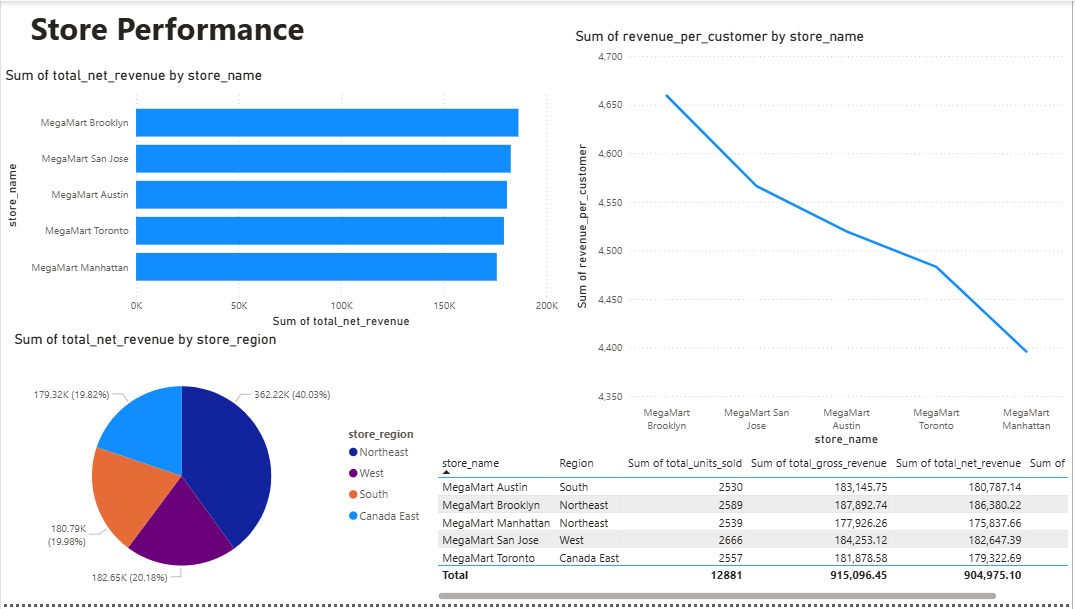

This screenshot's page, from the dashboard's own definition file:
{"tool":"powerbi","page":{"name":"Store Performance","canvas":[1280,720],"ordinal":1},"visuals":[{"type":"lineChart","fields":{"Category":["`dbt_tuto_prod` `gold` `gold_sales_by_store`.store_name"],"Y":["Sum(`dbt_tuto_prod` `gold` `gold_sales_by_store`.revenue_per_customer)"]},"box":[680.9,32.3,598.5,503.5],"z":0},{"type":"pieChart","fields":{"Category":["`dbt_tuto_prod` `gold` `gold_sales_by_store`.store_region"],"Y":["Sum(`dbt_tuto_prod` `gold` `gold_sales_by_store`.total_net_revenue)"]},"box":[10.8,394.2,505.3,326.1],"z":1000},{"type":"textbox","box":[10.8,1.8,376.3,59.1],"z":2000},{"type":"clusteredBarChart","fields":{"Category":["`dbt_tuto_prod` `gold` `gold_sales_by_store`.store_name"],"Y":["Sum(`dbt_tuto_prod` `gold` `gold_sales_by_store`.total_net_revenue)"]},"box":[0,78.8,670.2,315.4],"z":3000},{"type":"tableEx","fields":{"Values":["`dbt_tuto_prod` `gold` `gold_sales_by_store`.store_name","`dbt_tuto_prod` `gold` `gold_sales_by_store`.store_region","Sum(`dbt_tuto_prod` `gold` `gold_sales_by_store`.total_units_sold)","Sum(`dbt_tuto_prod` `gold` `gold_sales_by_store`.total_gross_revenue)","Sum(`dbt_tuto_prod` `gold` `gold_sales_by_store`.total_net_revenue)","Sum(`dbt_tuto_prod` `gold` `gold_sales_by_store`.total_discounts)"]},"box":[516.1,535.8,763.3,184.6],"z":4000}]}

Visuals, with their boxes in screenshot pixels (x1, y1, x2, y2), scaled from the page's 1280x720 canvas onto the 1075x609 screenshot:
lineChart - `dbt_tuto_prod` `gold` `gold_sales_by_store`.store_name x Sum(`dbt_tuto_prod` `gold` `gold_sales_by_store`.revenue_per_customer): (x1=572, y1=27, x2=1074, y2=453)
pieChart - `dbt_tuto_prod` `gold` `gold_sales_by_store`.store_region x Sum(`dbt_tuto_prod` `gold` `gold_sales_by_store`.total_net_revenue): (x1=9, y1=333, x2=433, y2=608)
textbox: (x1=9, y1=2, x2=325, y2=52)
clusteredBarChart - `dbt_tuto_prod` `gold` `gold_sales_by_store`.store_name x Sum(`dbt_tuto_prod` `gold` `gold_sales_by_store`.total_net_revenue): (x1=0, y1=67, x2=563, y2=333)
tableEx - `dbt_tuto_prod` `gold` `gold_sales_by_store`.store_name x `dbt_tuto_prod` `gold` `gold_sales_by_store`.store_region: (x1=433, y1=453, x2=1074, y2=608)
